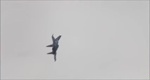maybay_muctieu: (44, 32, 62, 63)
